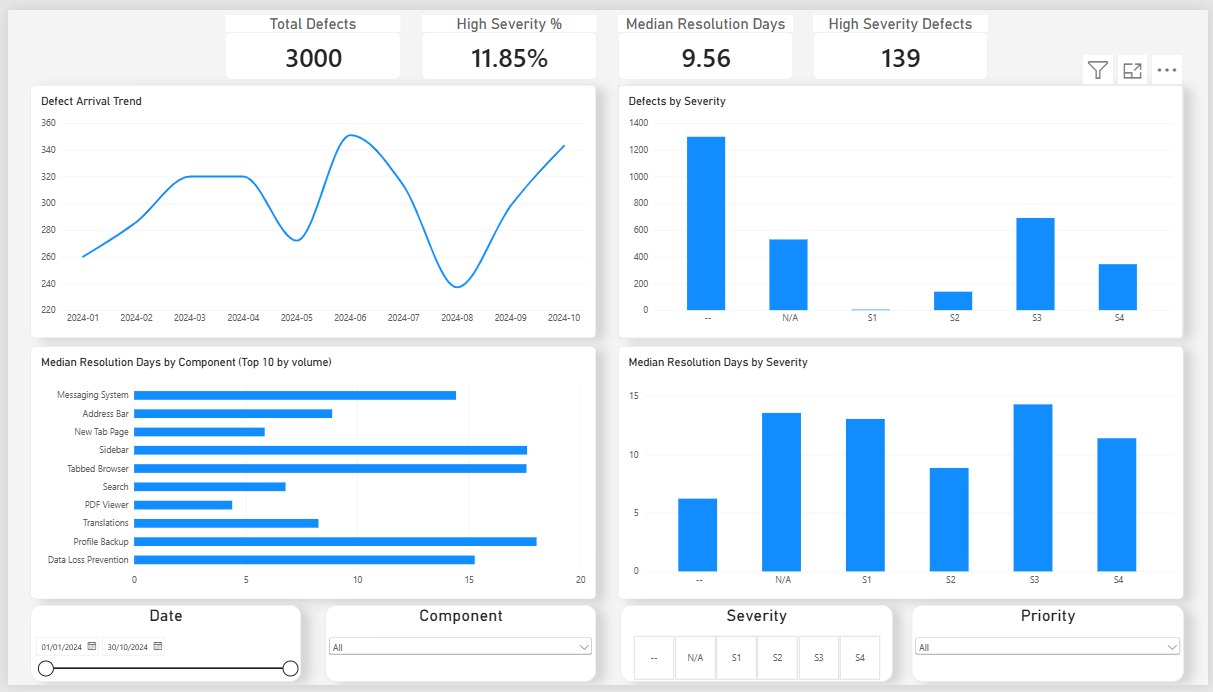

What the dashboard file says about the page in this screenshot:
{"tool":"powerbi","page":{"name":"Overview","canvas":[1920,1080],"ordinal":0},"visuals":[{"type":"cardVisual","title":"Total Defects","fields":{"Data":["public fact_bug.Total Defects"]},"box":[348.7,7.3,280,104],"z":0},{"type":"cardVisual","title":"High Severity %","fields":{"Data":["public fact_bug.High Severity %"]},"box":[662.5,7.5,280,104],"z":1000},{"type":"cardVisual","title":"Median Resolution Days","fields":{"Data":["public fact_bug.Median Resolution Days"]},"box":[975,7.5,280,104],"z":2000},{"type":"cardVisual","title":"High Severity Defects","fields":{"Data":["public fact_bug.High Severity Defects"]},"box":[1287.5,7.5,280,104],"z":3000},{"type":"lineChart","title":"Defect Arrival Trend","fields":{"Category":["public dim_date.year_month"],"Y":["public fact_bug.Total Defects"]},"box":[35,120,905,405],"z":4000},{"type":"clusteredColumnChart","title":"Defects by Severity","fields":{"Category":["public dim_severity.severity"],"Y":["public fact_bug.Total Defects"]},"box":[975,120,905,405],"z":5000},{"type":"clusteredBarChart","title":"Median Resolution Days by Component (Top 10 by volume)","fields":{"Category":["public dim_component.component_name"],"Y":["public fact_bug.Median Resolution Days"]},"box":[36.3,537.2,905,405],"z":6000},{"type":"clusteredColumnChart","title":"Median Resolution Days by Severity","fields":{"Category":["public dim_severity.severity"],"Y":["public fact_bug.Median Resolution Days"]},"box":[975,537.5,905,405],"z":7000},{"type":"slicer","title":"Date","fields":{"Values":["public dim_date.full_date"]},"box":[36.2,951.9,432.5,122.5],"z":8000},{"type":"slicer","title":"Component","fields":{"Values":["public dim_component.component_name"]},"box":[508.5,951.9,432.5,122.5],"z":9000},{"type":"slicer","title":"Severity","fields":{"Values":["public dim_severity.severity"]},"box":[980.8,951.9,435,122.5],"z":10000},{"type":"slicer","title":"Priority","fields":{"Values":["public dim_priority.priority"]},"box":[1445.9,951.9,435,122.5],"z":11000}]}

Visuals, with their boxes in screenshot pixels (x1, y1, x2, y2), scaled from the page's 1920x1080 canvas onto the 1213x692 screenshot:
"Total Defects" cardVisual: 220:5:397:71
"High Severity %" cardVisual: 419:5:595:71
"Median Resolution Days" cardVisual: 616:5:793:71
"High Severity Defects" cardVisual: 813:5:990:71
"Defect Arrival Trend" lineChart: 22:77:594:336
"Defects by Severity" clusteredColumnChart: 616:77:1188:336
"Median Resolution Days by Component (Top 10 by volume)" clusteredBarChart: 23:344:595:604
"Median Resolution Days by Severity" clusteredColumnChart: 616:344:1188:604
"Date" slicer: 23:610:296:688
"Component" slicer: 321:610:594:688
"Severity" slicer: 620:610:894:688
"Priority" slicer: 913:610:1188:688
